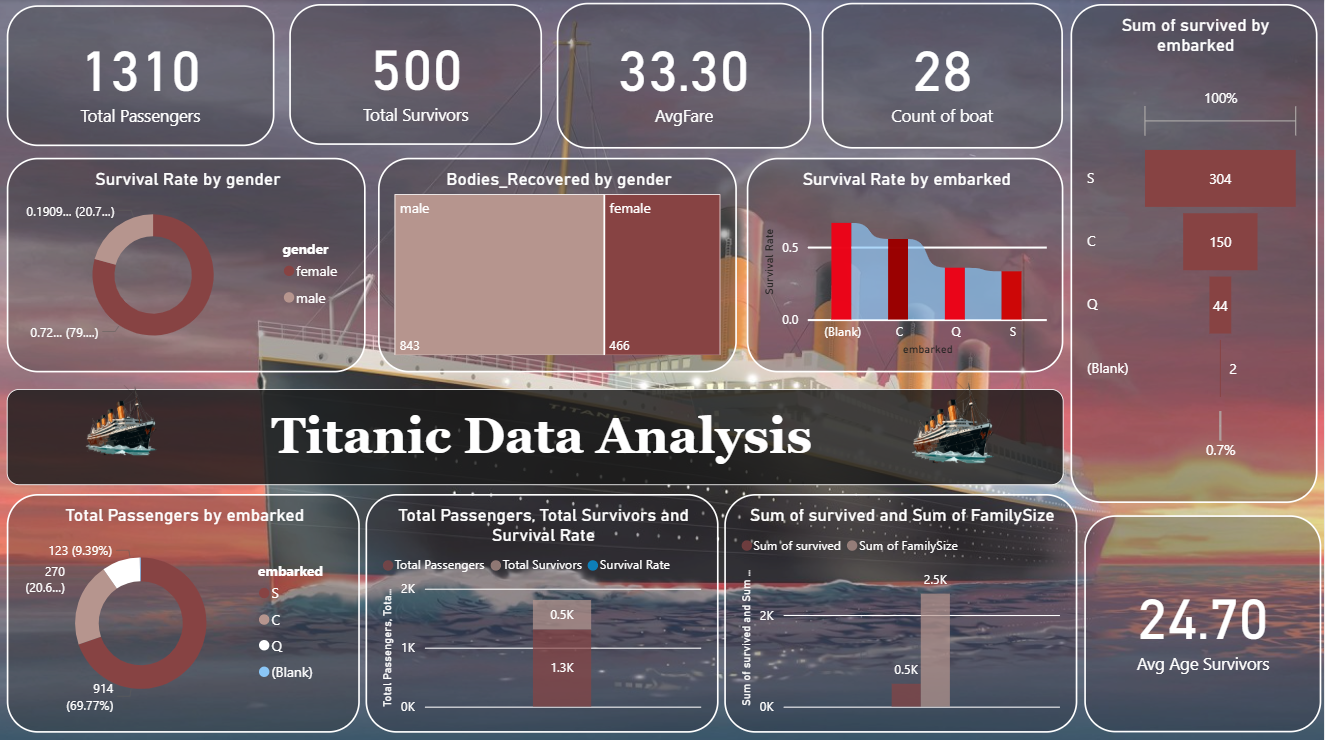

What the dashboard file says about the page in this screenshot:
{"tool":"powerbi","page":{"name":"Page 1","canvas":[1280,720],"ordinal":0},"visuals":[{"type":"columnChart","fields":{"Y":["titanic3.Total Passengers","titanic3.Total Survivors","titanic3.Survival Rate"]},"box":[354.7,477.9,340.7,230.2],"z":0},{"type":"pieChart","fields":{"Category":["titanic3.sex"],"Y":["titanic3.Survival Rate"]},"box":[8.1,153.5,346.5,207],"z":1000},{"type":"clusteredColumnChart","fields":{"Y":["Sum(titanic3.survived)","Sum(titanic3.FamilySize)"]},"box":[701.2,477.9,340.7,230.2],"z":2000},{"type":"card","fields":{"Values":["titanic3.Total Passengers"]},"box":[8.1,5.8,258.1,136],"z":3000},{"type":"textbox","box":[8.1,376.7,1019.8,93],"z":4000},{"type":"pieChart","fields":{"Y":["titanic3.Total Passengers"],"Category":["titanic3.embarked"]},"box":[8.1,477.9,340.7,230.2],"z":5000},{"type":"funnel","fields":{"Y":["Sum(titanic3.survived)"],"Category":["titanic3.embarked"]},"box":[1034.9,4.7,238.4,481.4],"z":6000},{"type":"card","fields":{"Values":["titanic3.Avg Age Survivors"]},"box":[1048.8,498.8,229.1,209.3],"z":7000},{"type":"card","fields":{"Values":["titanic3.Total Survivors"]},"box":[281.4,4.7,244.2,136],"z":8000},{"type":"card","fields":{"Values":["titanic3.AvgFare"]},"box":[539.5,3.5,245.3,140.7],"z":9000},{"type":"card","fields":{"Values":["Count(titanic3.boat)"]},"box":[795.4,3.5,232.6,140.7],"z":10000},{"type":"image","box":[79.1,360.5,80.2,93],"z":11000},{"type":"image","box":[875.6,364,93,89.5],"z":12000},{"type":"ribbonChart","fields":{"Category":["titanic3.embarked"],"Y":["titanic3.Survival Rate"]},"box":[722.1,153.5,305.8,207],"z":13000},{"type":"treemap","fields":{"Values":["titanic3.Bodies_Recovered"],"Group":["titanic3.sex"]},"box":[366.3,153.5,346.5,207],"z":14000}]}

Visuals, with their boxes in screenshot pixels (x1, y1, x2, y2), scaled from the page's 1280x720 canvas onto the 1325x740 screenshot:
columnChart - titanic3.Total Passengers x titanic3.Total Survivors: [367,491,720,728]
pieChart - titanic3.sex x titanic3.Survival Rate: [8,158,367,371]
clusteredColumnChart - Sum(titanic3.survived) x Sum(titanic3.FamilySize): [726,491,1079,728]
card - titanic3.Total Passengers: [8,6,276,146]
textbox: [8,387,1064,483]
pieChart - titanic3.Total Passengers x titanic3.embarked: [8,491,361,728]
funnel - Sum(titanic3.survived) x titanic3.embarked: [1071,5,1318,500]
card - titanic3.Avg Age Survivors: [1086,513,1323,728]
card - titanic3.Total Survivors: [291,5,544,145]
card - titanic3.AvgFare: [558,4,812,148]
card - Count(titanic3.boat): [823,4,1064,148]
image: [82,371,165,466]
image: [906,374,1003,466]
ribbonChart - titanic3.embarked x titanic3.Survival Rate: [747,158,1064,371]
treemap - titanic3.Bodies_Recovered x titanic3.sex: [379,158,738,371]
